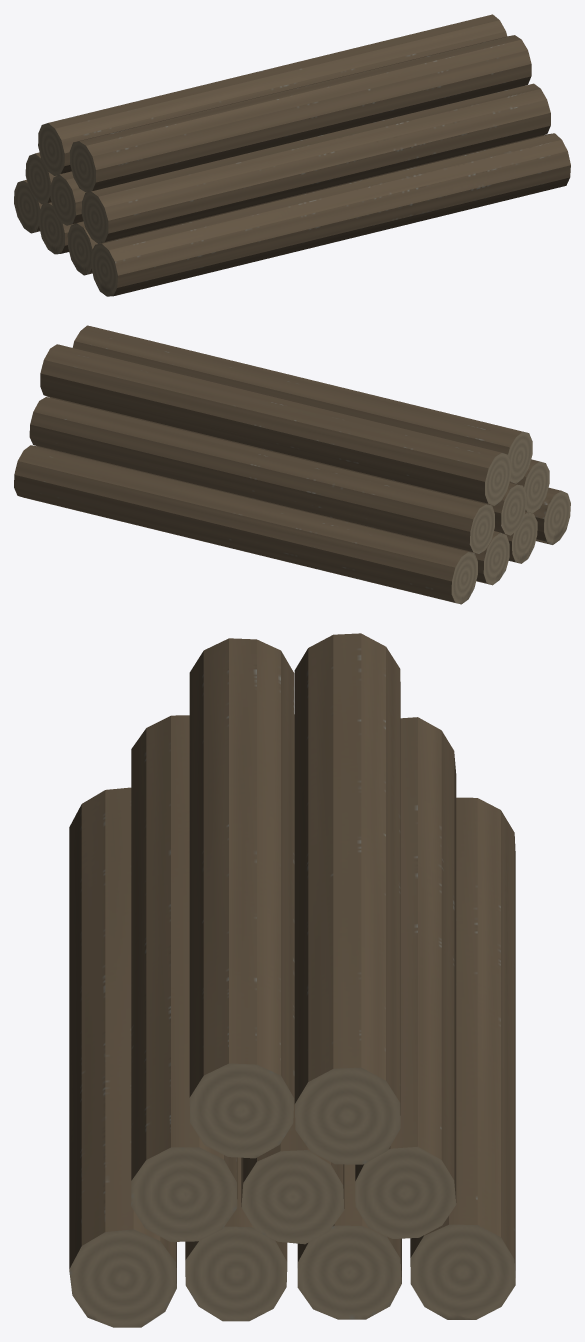
File: forest_log_stack_long.glb
3 renders of one model, top to bottom at view 1: azimuth 30°, elevation 25°; view 2: azimuth 150°, elevation 25°; view 3: azimuth 270°, elevation 25°, orthographic. The views are drawn at different scales.
Parts seen in each view (by area): view 1: LogStackLong; view 2: LogStackLong; view 3: LogStackLong.
Part boxes in pixels (box(x1,y1,x2,y2)): LogStackLong: box(14, 14, 570, 296); LogStackLong: box(14, 325, 570, 604); LogStackLong: box(69, 633, 515, 1327).
Size of what is drawn, in the model's own units: 3 by 0.8071 by 1.28.
1 material, 1 textured.
